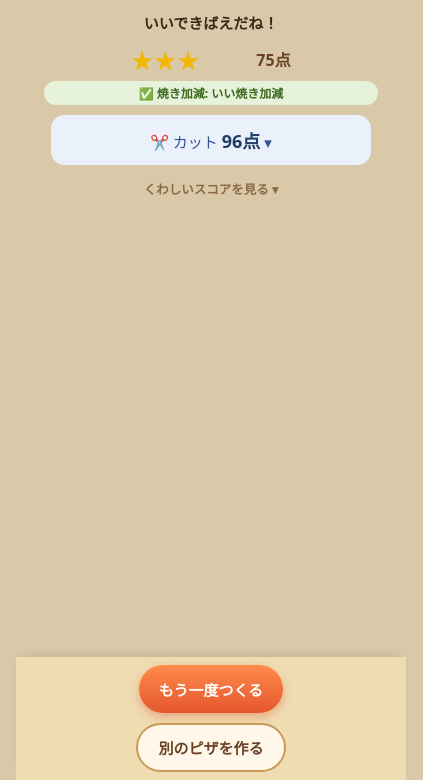
Scenario: ResultPanel › reveals all existing CUT detail rows once opened (real tap on the summary), none dropped
Click the heading with class "cut-evaluation-summary__summary" at (205,141), box [150,129,260,153]
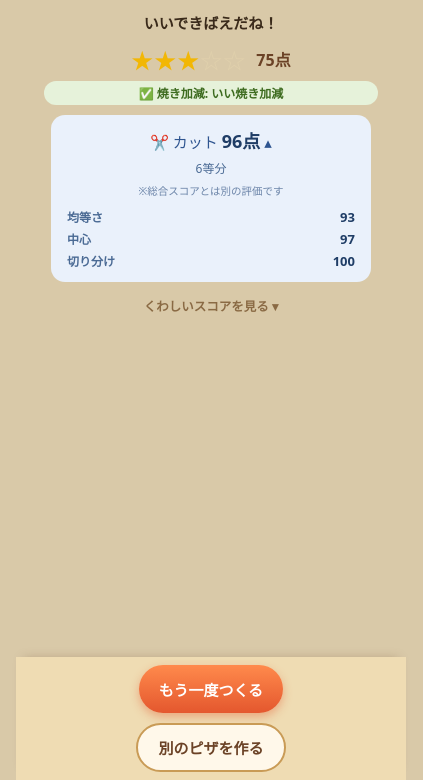
Now the text "6等分" is shown, box [196,160,226,177]
Now the text "※総合スコアとは別の評価です" is shown, box [138,184,284,198]
Now the text "均等さ" is shown, box [67,208,103,226]
